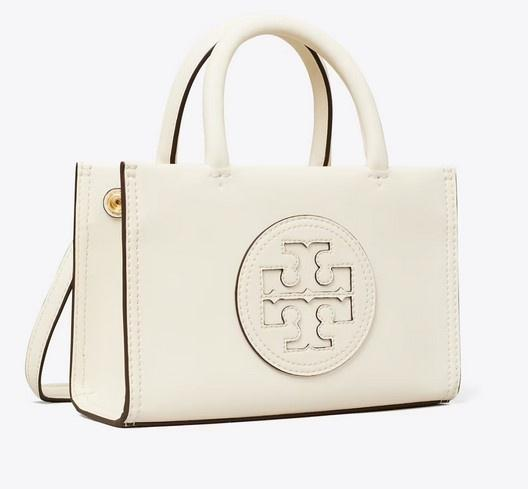TORY-BURCH: (236, 214, 377, 376)
